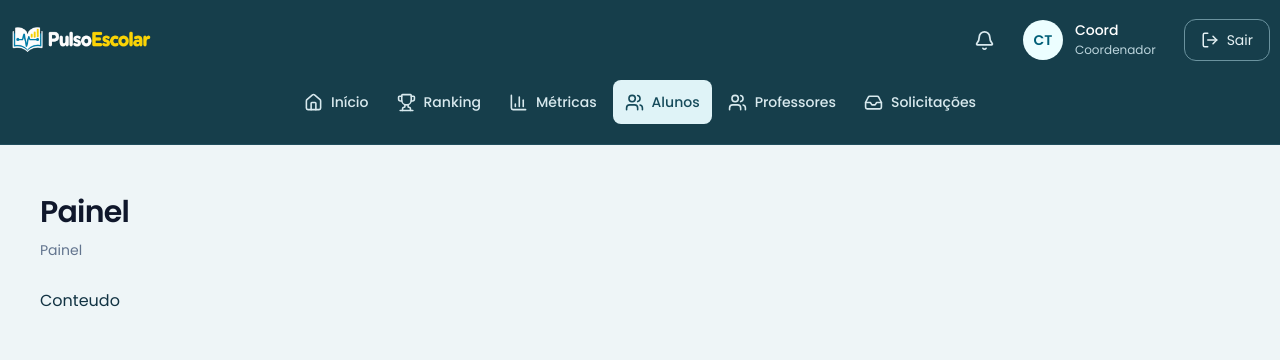
Test: shell highlights users and shows logout failure
What coordinates should you click on to do the following:
click the button "Sair"
I would click on:
 (1227, 40)
Its box is [1184, 19, 1270, 61].
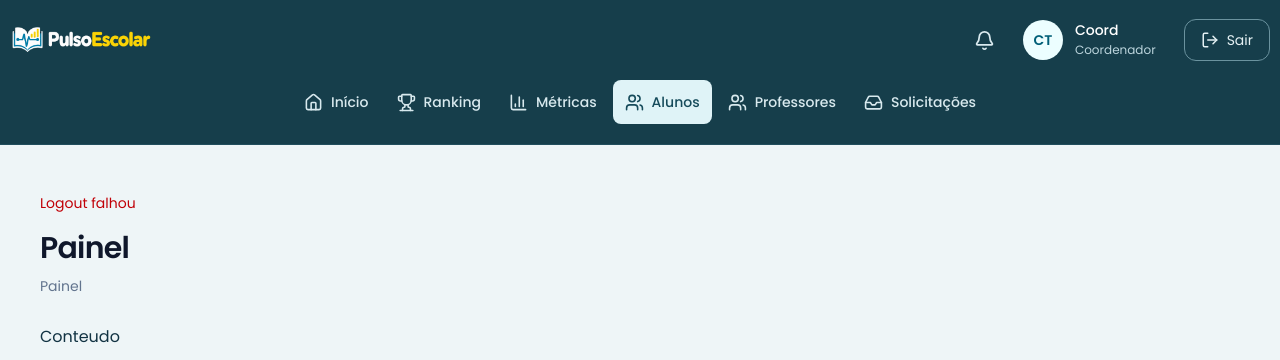
expect the message reads "Logout falhou": met, box [40, 193, 136, 213]
